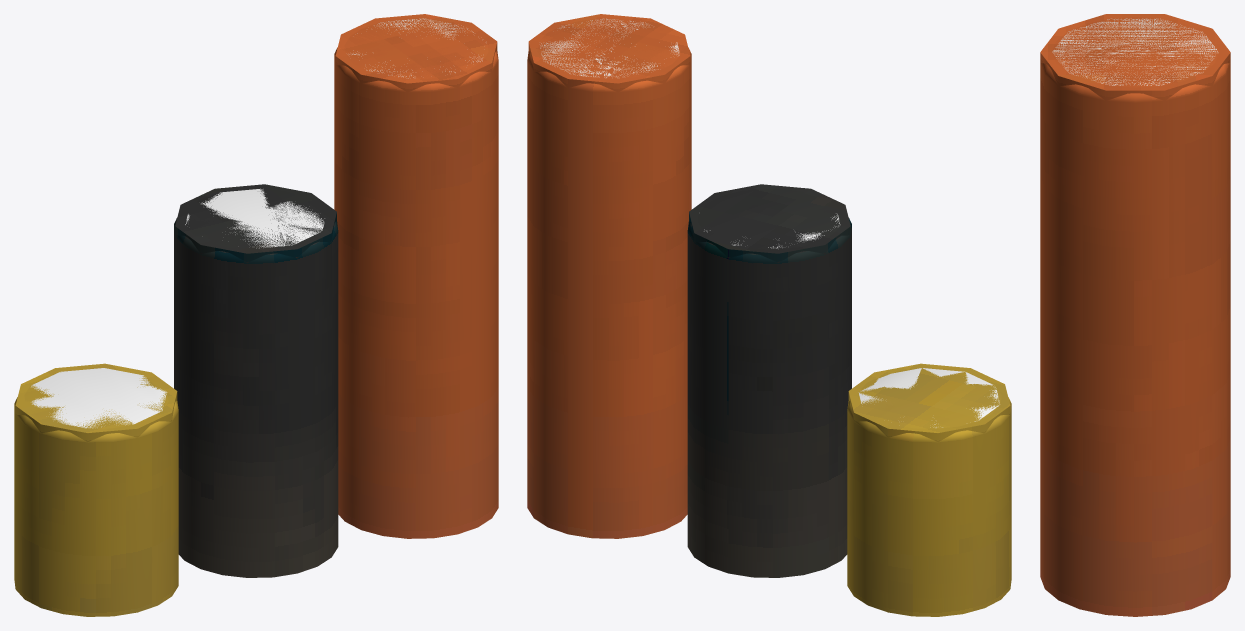
The model's file is objects_un_pobjjumpball01.gltf.
The picture shows the model from 3 angles, left to right: view 1: azimuth 30°, elevation 25°; view 2: azimuth 150°, elevation 25°; view 3: azimuth 270°, elevation 25°; orthographic projection. The views are drawn at different scales.
Visible parts, largest first — view 1: um_objects_un_pobjjumpball01_model_lod0Shape:objects_un_pobj (×2), um_objects_un_pobjjumpball01_model_lod2Shape:objects_un_pobj; view 2: um_objects_un_pobjjumpball01_model_lod0Shape:objects_un_pobj (×2), um_objects_un_pobjjumpball01_model_lod2Shape:objects_un_pobj; view 3: um_objects_un_pobjjumpball01_model_lod0Shape:objects_un_pobj (×2), um_objects_un_pobjjumpball01_model_lod2Shape:objects_un_pobj.
Boxes of the visible parts, bbox=[...] form: um_objects_un_pobjjumpball01_model_lod0Shape:objects_un_pobj (×2): bbox=[14, 18, 498, 616]; um_objects_un_pobjjumpball01_model_lod2Shape:objects_un_pobj: bbox=[15, 14, 497, 441]; um_objects_un_pobjjumpball01_model_lod0Shape:objects_un_pobj (×2): bbox=[527, 18, 1011, 616]; um_objects_un_pobjjumpball01_model_lod2Shape:objects_un_pobj: bbox=[528, 14, 1010, 441]; um_objects_un_pobjjumpball01_model_lod0Shape:objects_un_pobj (×2): bbox=[1040, 17, 1230, 616]; um_objects_un_pobjjumpball01_model_lod2Shape:objects_un_pobj: bbox=[1040, 14, 1230, 100].
Size of the model in its own units: 1.07 by 1 by 0.33.
2 materials, 1 textured.
